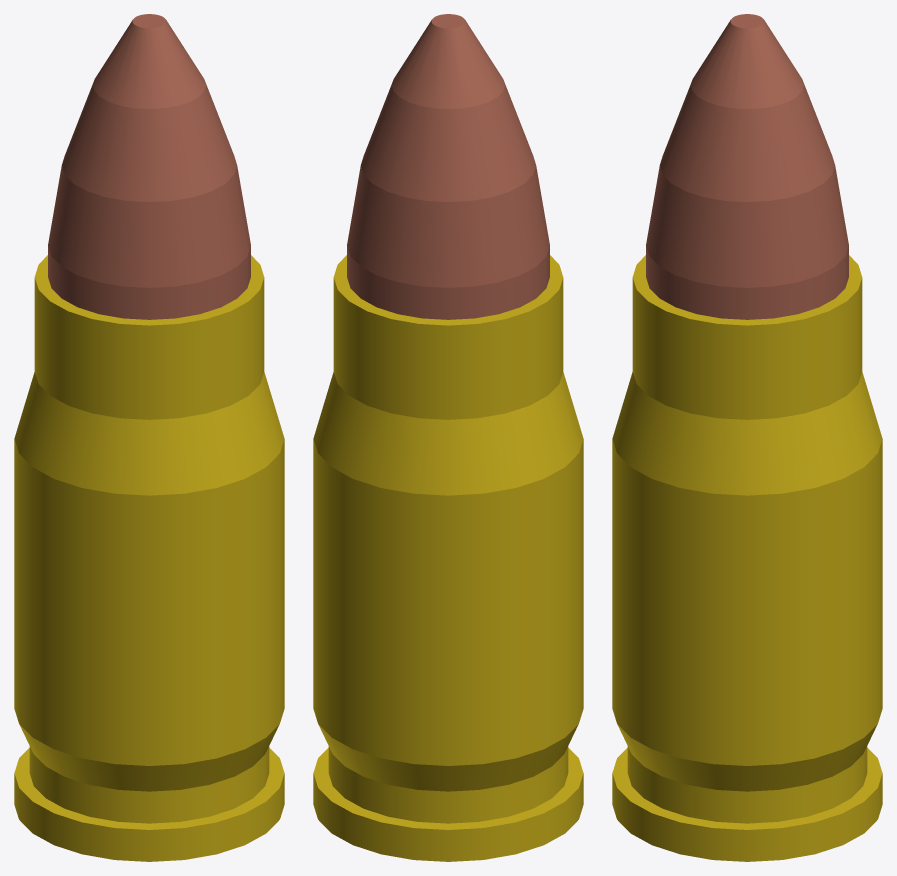
Rendered from ammo_machinegun.fbx.
3 renders of one model, left to right at view 1: azimuth 30°, elevation 25°; view 2: azimuth 150°, elevation 25°; view 3: azimuth 270°, elevation 25°, orthographic.
Visible parts, largest first — view 1: Mesh1_Group2 Group1 Model, Mesh2_Group3 Group1 Model; view 2: Mesh1_Group2 Group1 Model, Mesh2_Group3 Group1 Model; view 3: Mesh1_Group2 Group1 Model, Mesh2_Group3 Group1 Model.
Boxes of the visible parts, x1,y1,x2,y2 form: Mesh1_Group2 Group1 Model: [14, 255, 284, 861]; Mesh2_Group3 Group1 Model: [48, 14, 250, 319]; Mesh1_Group2 Group1 Model: [313, 255, 583, 861]; Mesh2_Group3 Group1 Model: [347, 14, 549, 319]; Mesh1_Group2 Group1 Model: [612, 255, 882, 861]; Mesh2_Group3 Group1 Model: [646, 14, 848, 319].
Bounding box in the file's own units: 0.00459 × 0.0147 × 0.00459.
